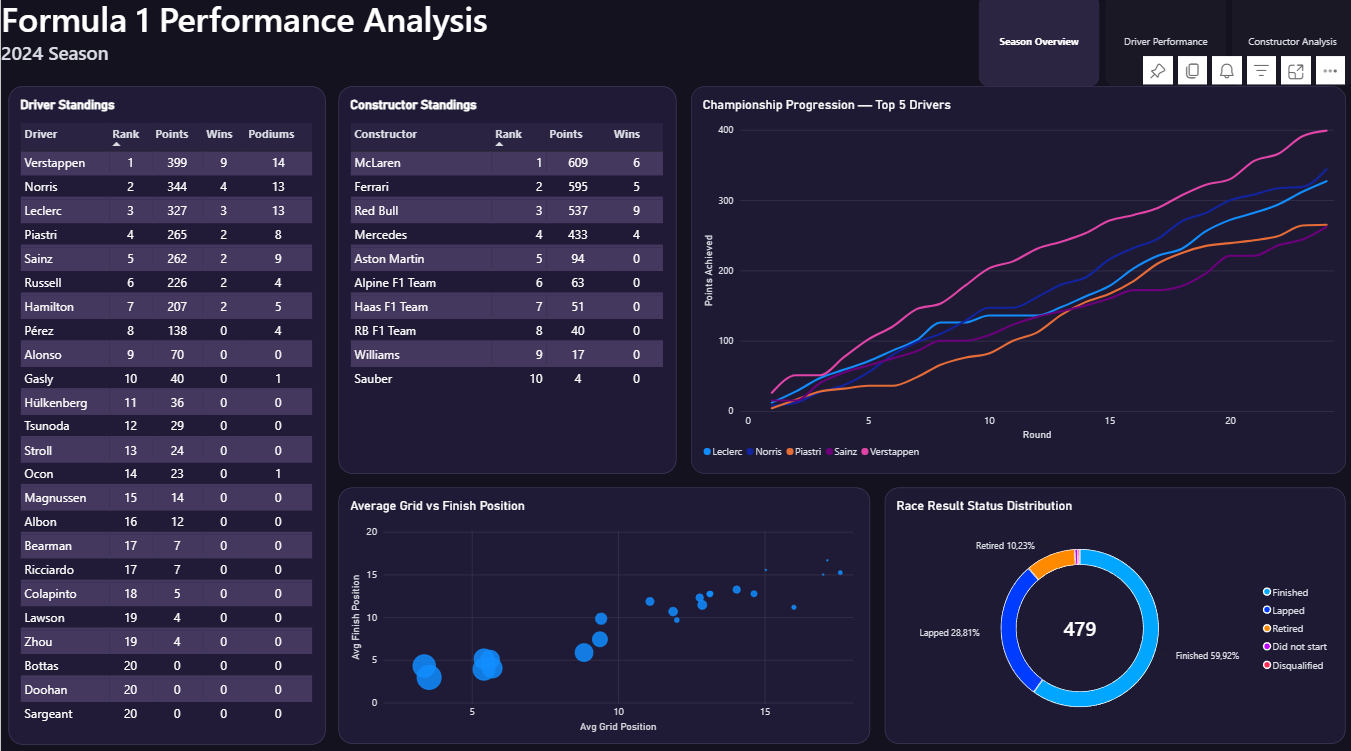

What the dashboard file says about the page in this screenshot:
{"tool":"powerbi","page":{"name":"Season Overview","canvas":[1920,1080],"ordinal":0},"visuals":[{"type":"pageNavigator","box":[1388,0,532,130],"z":0},{"type":"textbox","box":[0,0,1388,130],"z":1000},{"type":"tableEx","title":"Driver Standings","fields":{"Values":["DimDriver.familyName","_Measures.Driver Rank","_Measures.Total Points","_Measures.Wins","_Measures.Podiums"]},"box":[10,129.4,450,935],"z":2000},{"type":"tableEx","title":"Constructor Standings","fields":{"Values":["DimConstructor.ConstructorName","_Measures.Constructor Rank","_Measures.Total Points","_Measures.Wins"]},"box":[480.2,129.6,480.2,550.6],"z":3000},{"type":"lineChart","title":"Championship Progression — Top 5 Drivers","fields":{"Category":["DimRace.round"],"Series":["DimDriver.familyName"],"Y":["_Measures.Cumulative Points"]},"box":[980.3,129.6,930,550],"z":4000},{"type":"donutChart","title":"Race Result Status Distribution","fields":{"Category":["FactRaceResults.status"],"Y":["CountNonNull(FactRaceResults.status)"]},"box":[1255.6,700,654.3,364.2],"z":5000},{"type":"scatterChart","title":"Average Grid vs Finish Position","fields":{"Category":["DimDriver.familyName"],"Size":["_Measures.Total Points"],"X":["_Measures.Avg Grid Position"],"Y":["_Measures.Avg Finish Position"]},"box":[480.2,700,755.6,364.2],"z":6000}]}

Visuals, with their boxes on the page's 1920x1080 design canvas (x1, y1, x2, y2). These are canvas units, not pixel positions in the 1351x751 screenshot, which may show the page scaled, cropped or inside an application window:
pageNavigator: bbox=(1388, 0, 1920, 130)
textbox: bbox=(0, 0, 1388, 130)
"Driver Standings" tableEx: bbox=(10, 129, 460, 1064)
"Constructor Standings" tableEx: bbox=(480, 130, 960, 680)
"Championship Progression — Top 5 Drivers" lineChart: bbox=(980, 130, 1910, 680)
"Race Result Status Distribution" donutChart: bbox=(1256, 700, 1910, 1064)
"Average Grid vs Finish Position" scatterChart: bbox=(480, 700, 1236, 1064)
